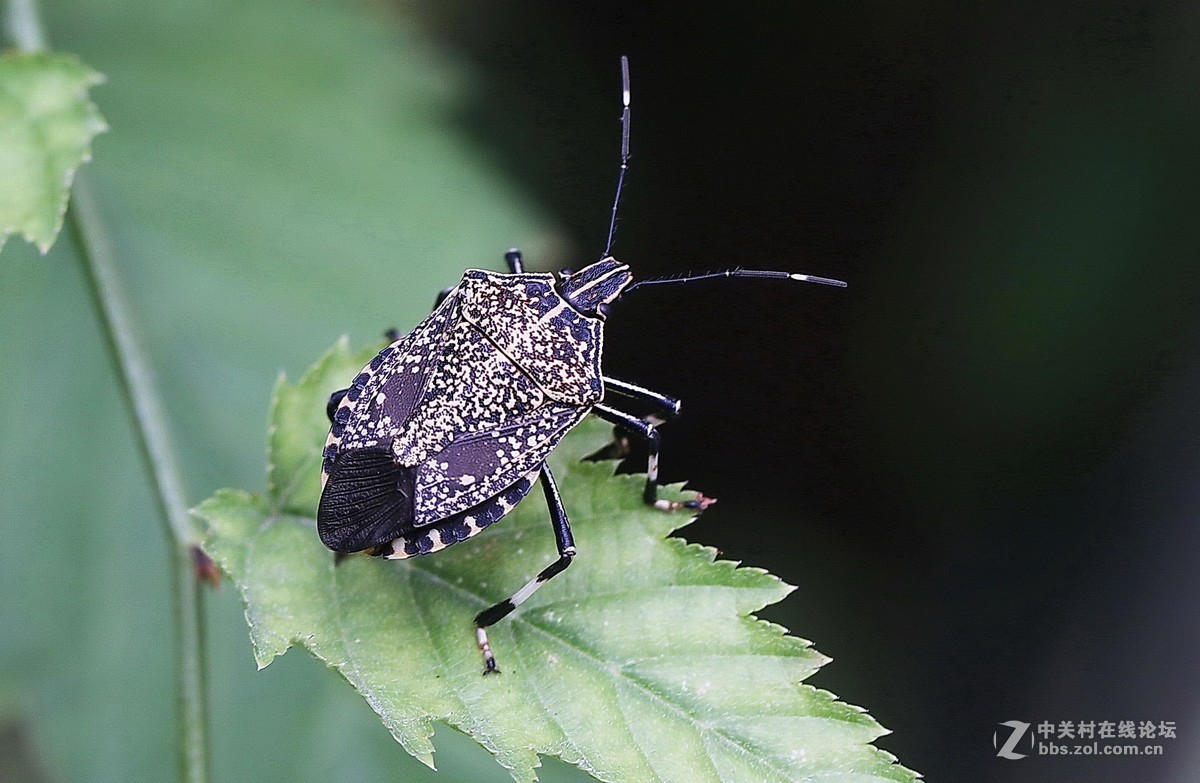chunchong: (304, 240, 713, 641)
